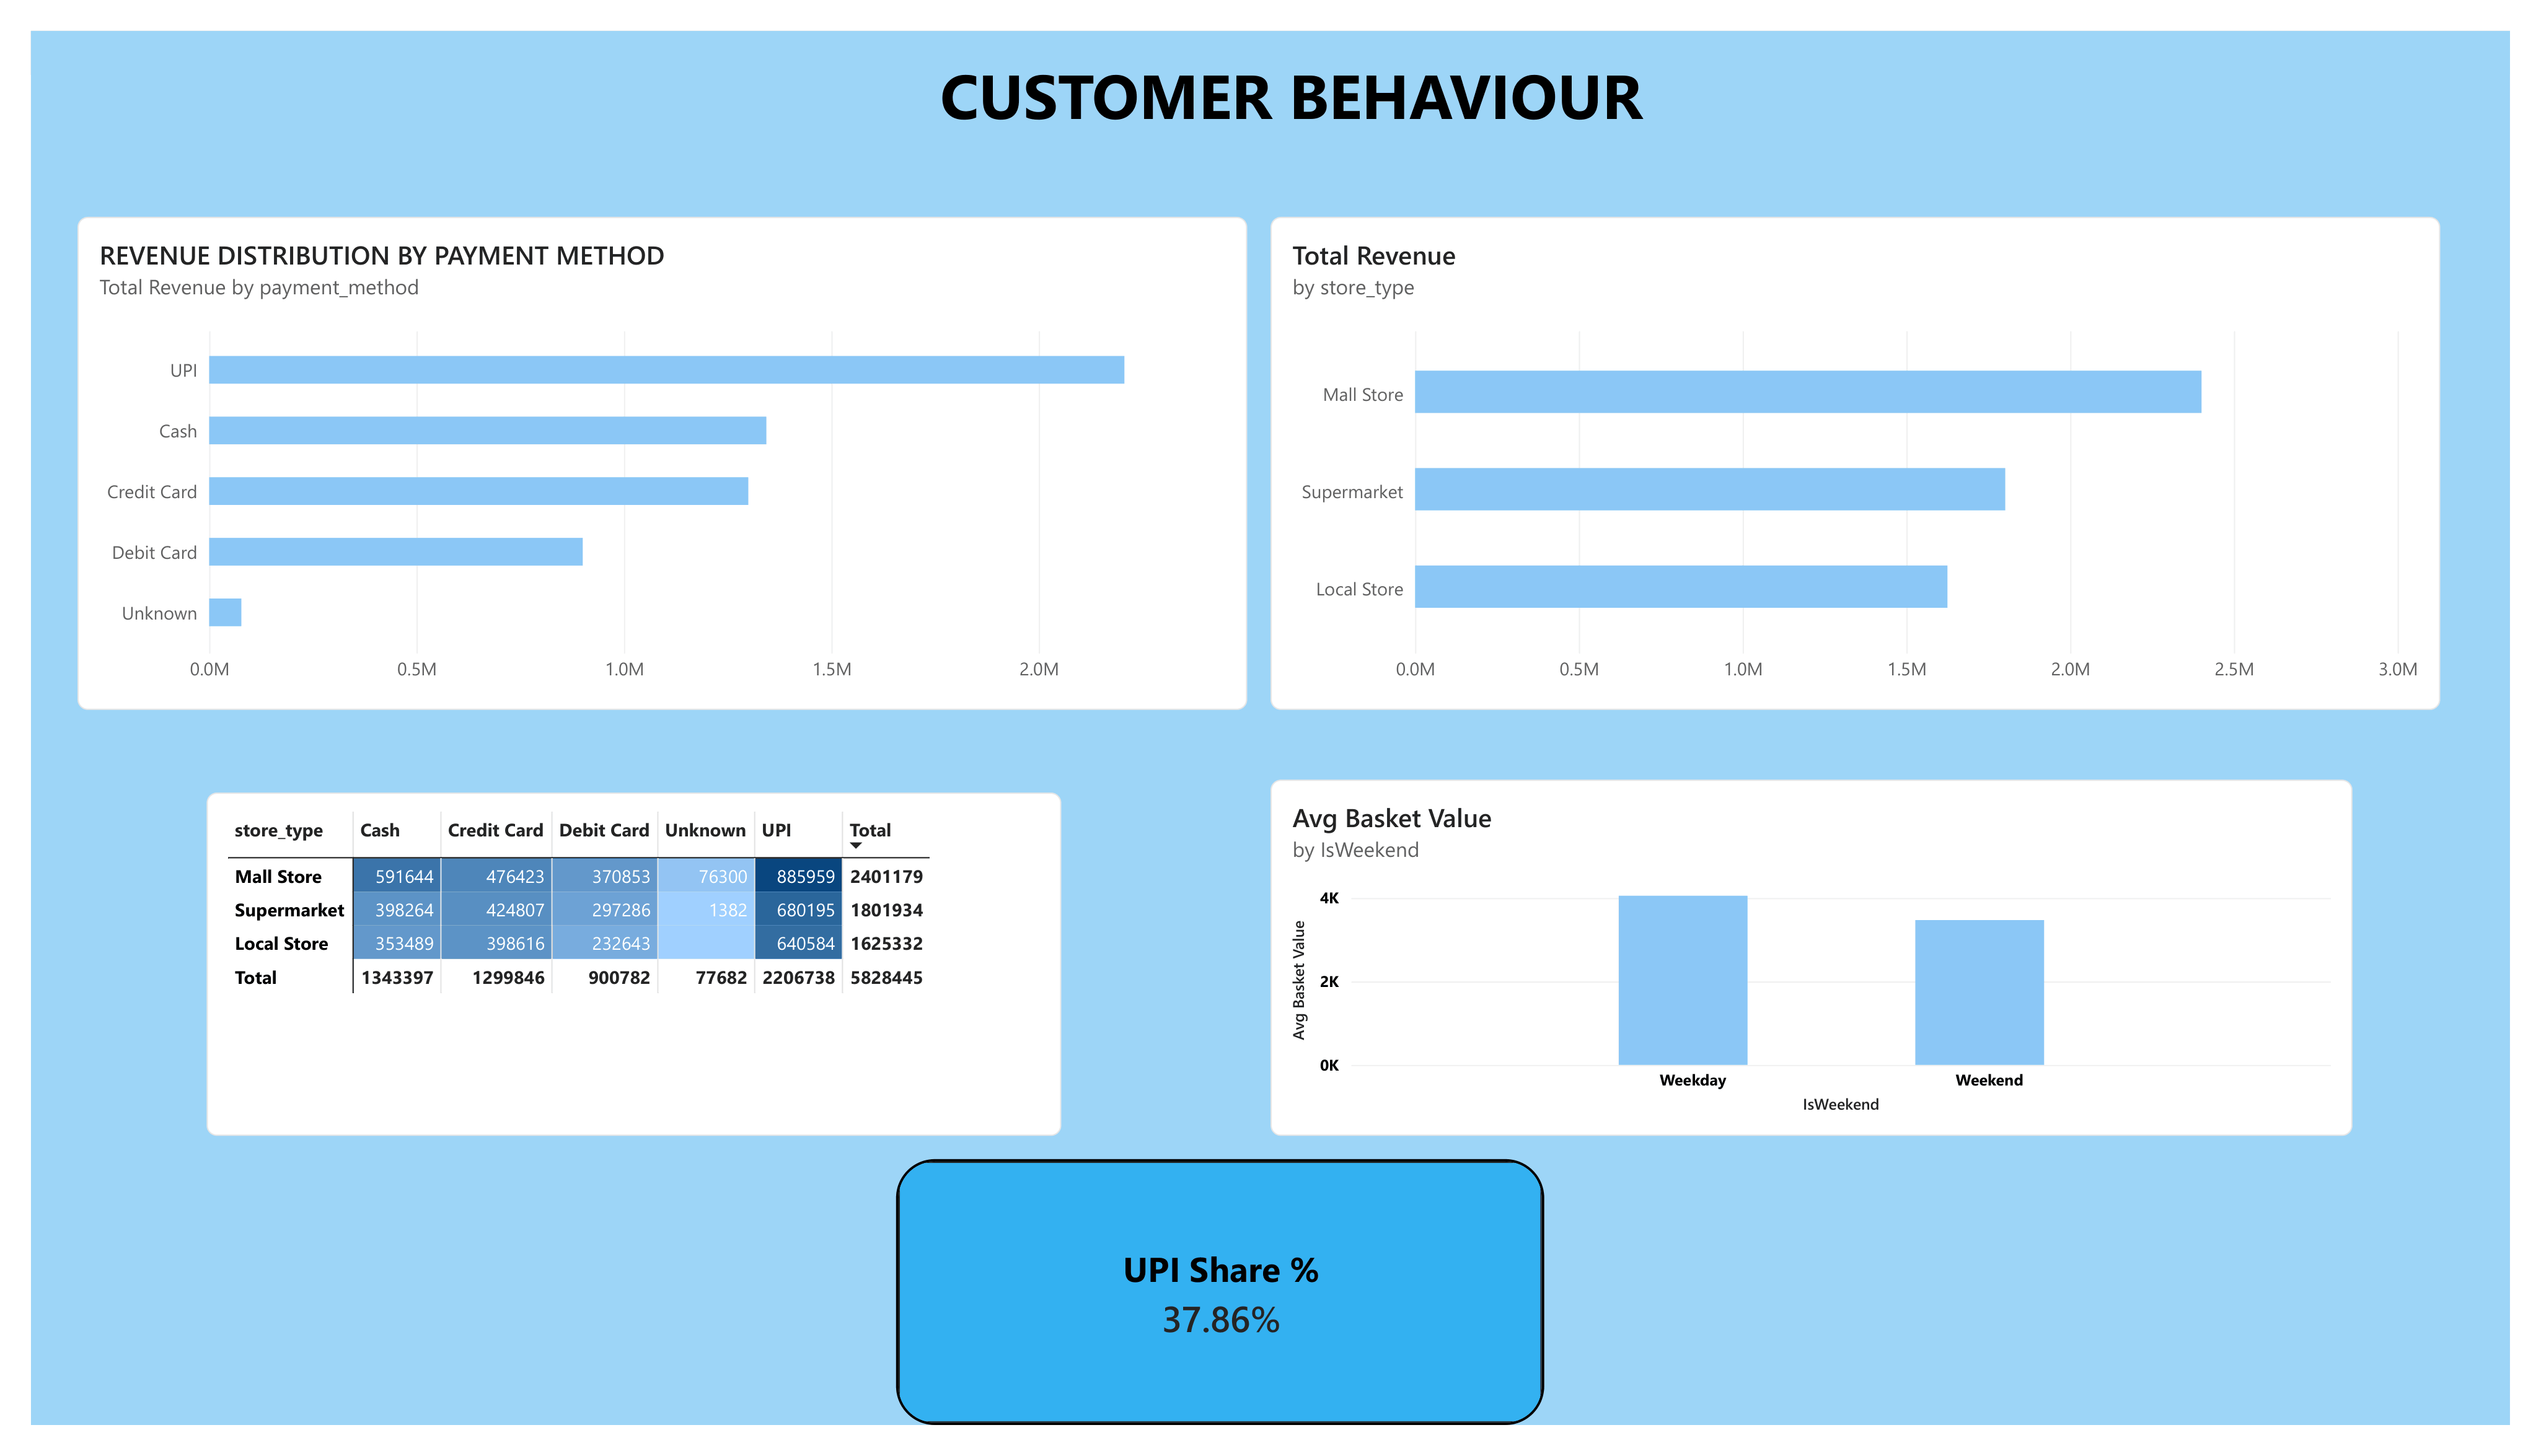

What the dashboard file says about the page in this screenshot:
{"tool":"powerbi","page":{"name":"payment behaviour","canvas":[1920,1080],"ordinal":1},"visuals":[{"type":"clusteredBarChart","title":"REVENUE  DISTRIBUTION BY PAYMENT METHOD","fields":{"Category":["Sales.payment_method"],"Y":["MeasureTable.Total Revenue"]},"box":[36,144,906,382],"z":0},{"type":"clusteredBarChart","fields":{"Category":["Sales.store_type"],"Y":["MeasureTable.Total Revenue"]},"box":[960,144,906,382],"z":1000},{"type":"pivotTable","fields":{"Columns":["Sales.payment_method"],"Values":["MeasureTable.Total Revenue"],"Rows":["Sales.store_type"]},"box":[136,590,662,266],"z":2000},{"type":"cardVisual","fields":{"Data":["MeasureTable.UPI Share %"]},"box":[670,874,502,206],"z":3000},{"type":"clusteredColumnChart","fields":{"Category":["DateTable.IsWeekend"],"Y":["IsWeekend.Avg Basket Value"]},"box":[960,580,838,276],"z":4000},{"type":"textbox","box":[704,16,592,208],"z":5000}]}

Visuals, with their boxes on the page's 1920x1080 design canvas (x1, y1, x2, y2). These are canvas units, not pixel positions in the 2541x1456 screenshot, which may show the page scaled, cropped or inside an application window:
"REVENUE  DISTRIBUTION BY PAYMENT METHOD" clusteredBarChart: {"x1": 36, "y1": 144, "x2": 942, "y2": 526}
clusteredBarChart - Sales.store_type x MeasureTable.Total Revenue: {"x1": 960, "y1": 144, "x2": 1866, "y2": 526}
pivotTable - Sales.payment_method x MeasureTable.Total Revenue: {"x1": 136, "y1": 590, "x2": 798, "y2": 856}
cardVisual - MeasureTable.UPI Share %: {"x1": 670, "y1": 874, "x2": 1172, "y2": 1080}
clusteredColumnChart - DateTable.IsWeekend x IsWeekend.Avg Basket Value: {"x1": 960, "y1": 580, "x2": 1798, "y2": 856}
textbox: {"x1": 704, "y1": 16, "x2": 1296, "y2": 224}
